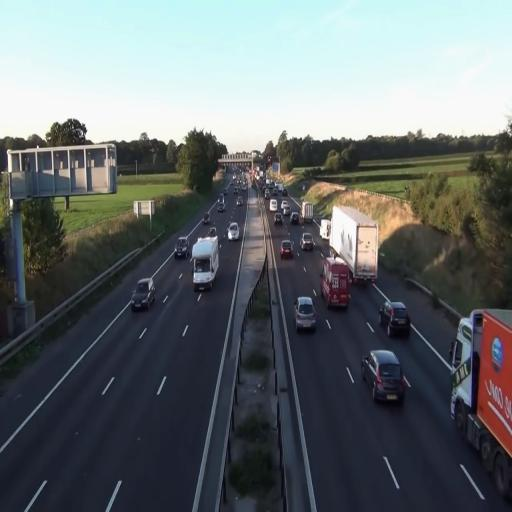vehicle: (450, 306, 512, 500), (449, 310, 511, 501), (329, 204, 379, 285), (329, 207, 377, 282), (360, 347, 406, 405), (361, 350, 407, 405), (321, 257, 351, 310), (192, 237, 219, 291), (320, 258, 348, 308), (192, 237, 217, 291), (379, 299, 410, 337), (378, 301, 409, 337), (130, 278, 156, 312), (294, 296, 317, 333), (294, 297, 316, 332), (130, 279, 154, 311), (277, 198, 300, 225), (280, 238, 295, 260), (174, 237, 189, 259), (174, 239, 190, 259), (301, 232, 314, 254), (227, 220, 240, 241), (300, 202, 312, 223), (299, 233, 313, 250), (280, 240, 292, 259), (227, 222, 238, 241), (319, 220, 329, 239), (282, 205, 292, 216), (206, 227, 216, 237), (274, 213, 282, 225), (290, 212, 298, 224), (202, 212, 209, 224), (269, 200, 276, 211), (217, 202, 224, 212), (280, 201, 287, 210), (236, 197, 242, 206), (276, 183, 282, 192), (217, 193, 223, 202), (264, 189, 269, 199), (282, 188, 287, 196), (241, 184, 246, 191), (265, 178, 269, 186), (233, 187, 237, 194), (272, 188, 276, 195)
